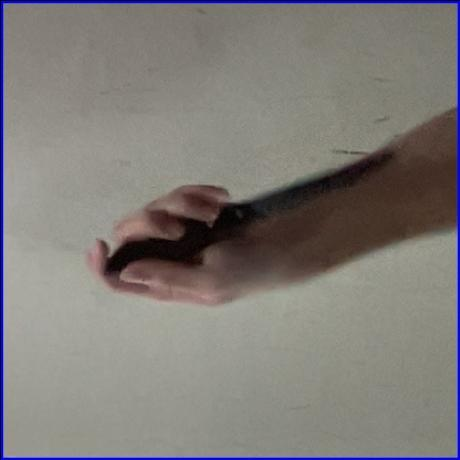1: (85, 105, 460, 308)
weapon: (101, 144, 399, 279)
